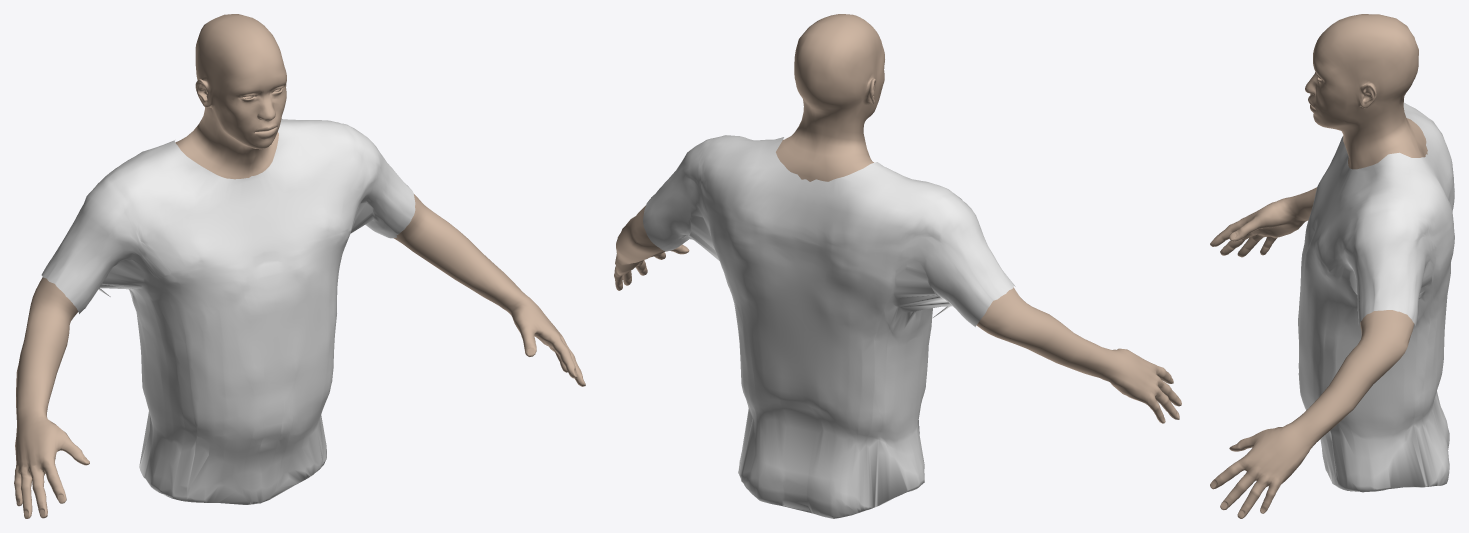
3 renders of one model, left to right at view 1: azimuth 30°, elevation 25°; view 2: azimuth 150°, elevation 25°; view 3: azimuth 270°, elevation 25°, orthographic. The views are drawn at different scales.
Parts seen in each view (by area): view 1: Cube, Base; view 2: Cube, Base; view 3: Cube, Base.
Part boxes in pixels (left/top/right/bottom): Cube: left=41, top=119, right=415, bottom=504; Base: left=14, top=14, right=585, bottom=518; Cube: left=643, top=135, right=1015, bottom=518; Base: left=614, top=14, right=1181, bottom=423; Cube: left=1298, top=102, right=1454, bottom=492; Base: left=1210, top=14, right=1427, bottom=518.
Bounding box in the file's own units: 10.56 × 8.43 × 4.15.
